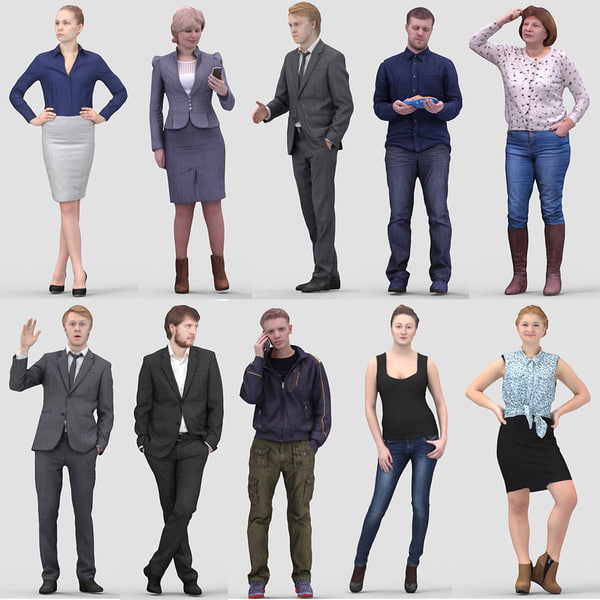human: (345, 297, 468, 593), (224, 304, 347, 600), (468, 3, 591, 299), (361, 3, 484, 299), (235, 2, 358, 298), (469, 304, 592, 600), (1, 293, 122, 593), (7, 5, 130, 300), (122, 305, 245, 600), (121, 1, 244, 295)
